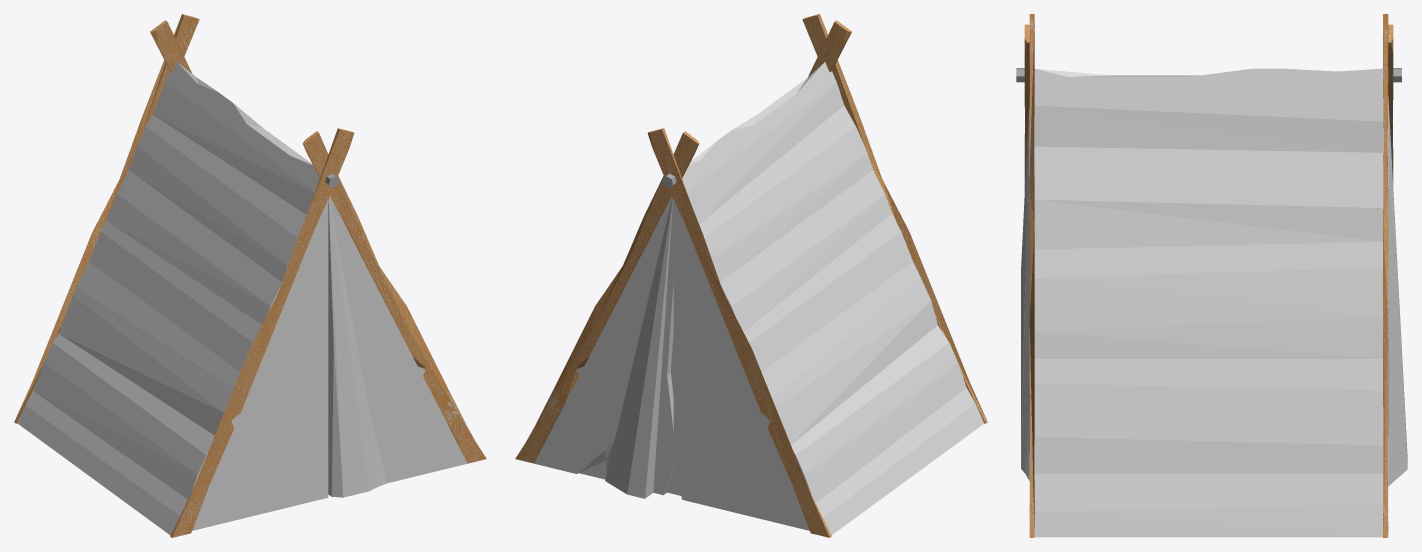
Rendered from Camp2.fbx.
3 renders of one model, left to right at view 1: azimuth 30°, elevation 25°; view 2: azimuth 150°, elevation 25°; view 3: azimuth 270°, elevation 25°, orthographic. The views are drawn at different scales.
Parts seen in each view (by area): view 1: Group4, Stolb_Palatka2_3, Stolb_Palatka2_4, Stolb_Palatka2_2, Stolb_Palatka2_1; view 2: Group4, Stolb_Palatka2_2, Stolb_Palatka2_1, Stolb_Palatka2_3, Stolb_Palatka2_4; view 3: Group4, Stolb_Palatka2_4, Stolb_Palatka2_1, Stolb_Palatka2_3, Stolb_Palatka2_2.
Boxes of the visible parts, bbox=[...] form: Group4: bbox=[17, 62, 467, 535]; Stolb_Palatka2_3: bbox=[170, 128, 354, 537]; Stolb_Palatka2_4: bbox=[302, 131, 486, 463]; Stolb_Palatka2_2: bbox=[14, 14, 199, 423]; Stolb_Palatka2_1: bbox=[150, 20, 192, 73]; Group4: bbox=[534, 62, 984, 535]; Stolb_Palatka2_2: bbox=[647, 128, 831, 537]; Stolb_Palatka2_1: bbox=[515, 131, 699, 463]; Stolb_Palatka2_3: bbox=[802, 14, 987, 423]; Stolb_Palatka2_4: bbox=[808, 20, 851, 76]; Group4: bbox=[1021, 68, 1407, 537]; Stolb_Palatka2_4: bbox=[1029, 14, 1034, 537]; Stolb_Palatka2_1: bbox=[1383, 14, 1388, 537]; Stolb_Palatka2_3: bbox=[1024, 24, 1029, 190]; Stolb_Palatka2_2: bbox=[1388, 24, 1393, 184].
Size of the model in its own units: 2500 by 2769 by 2293.
